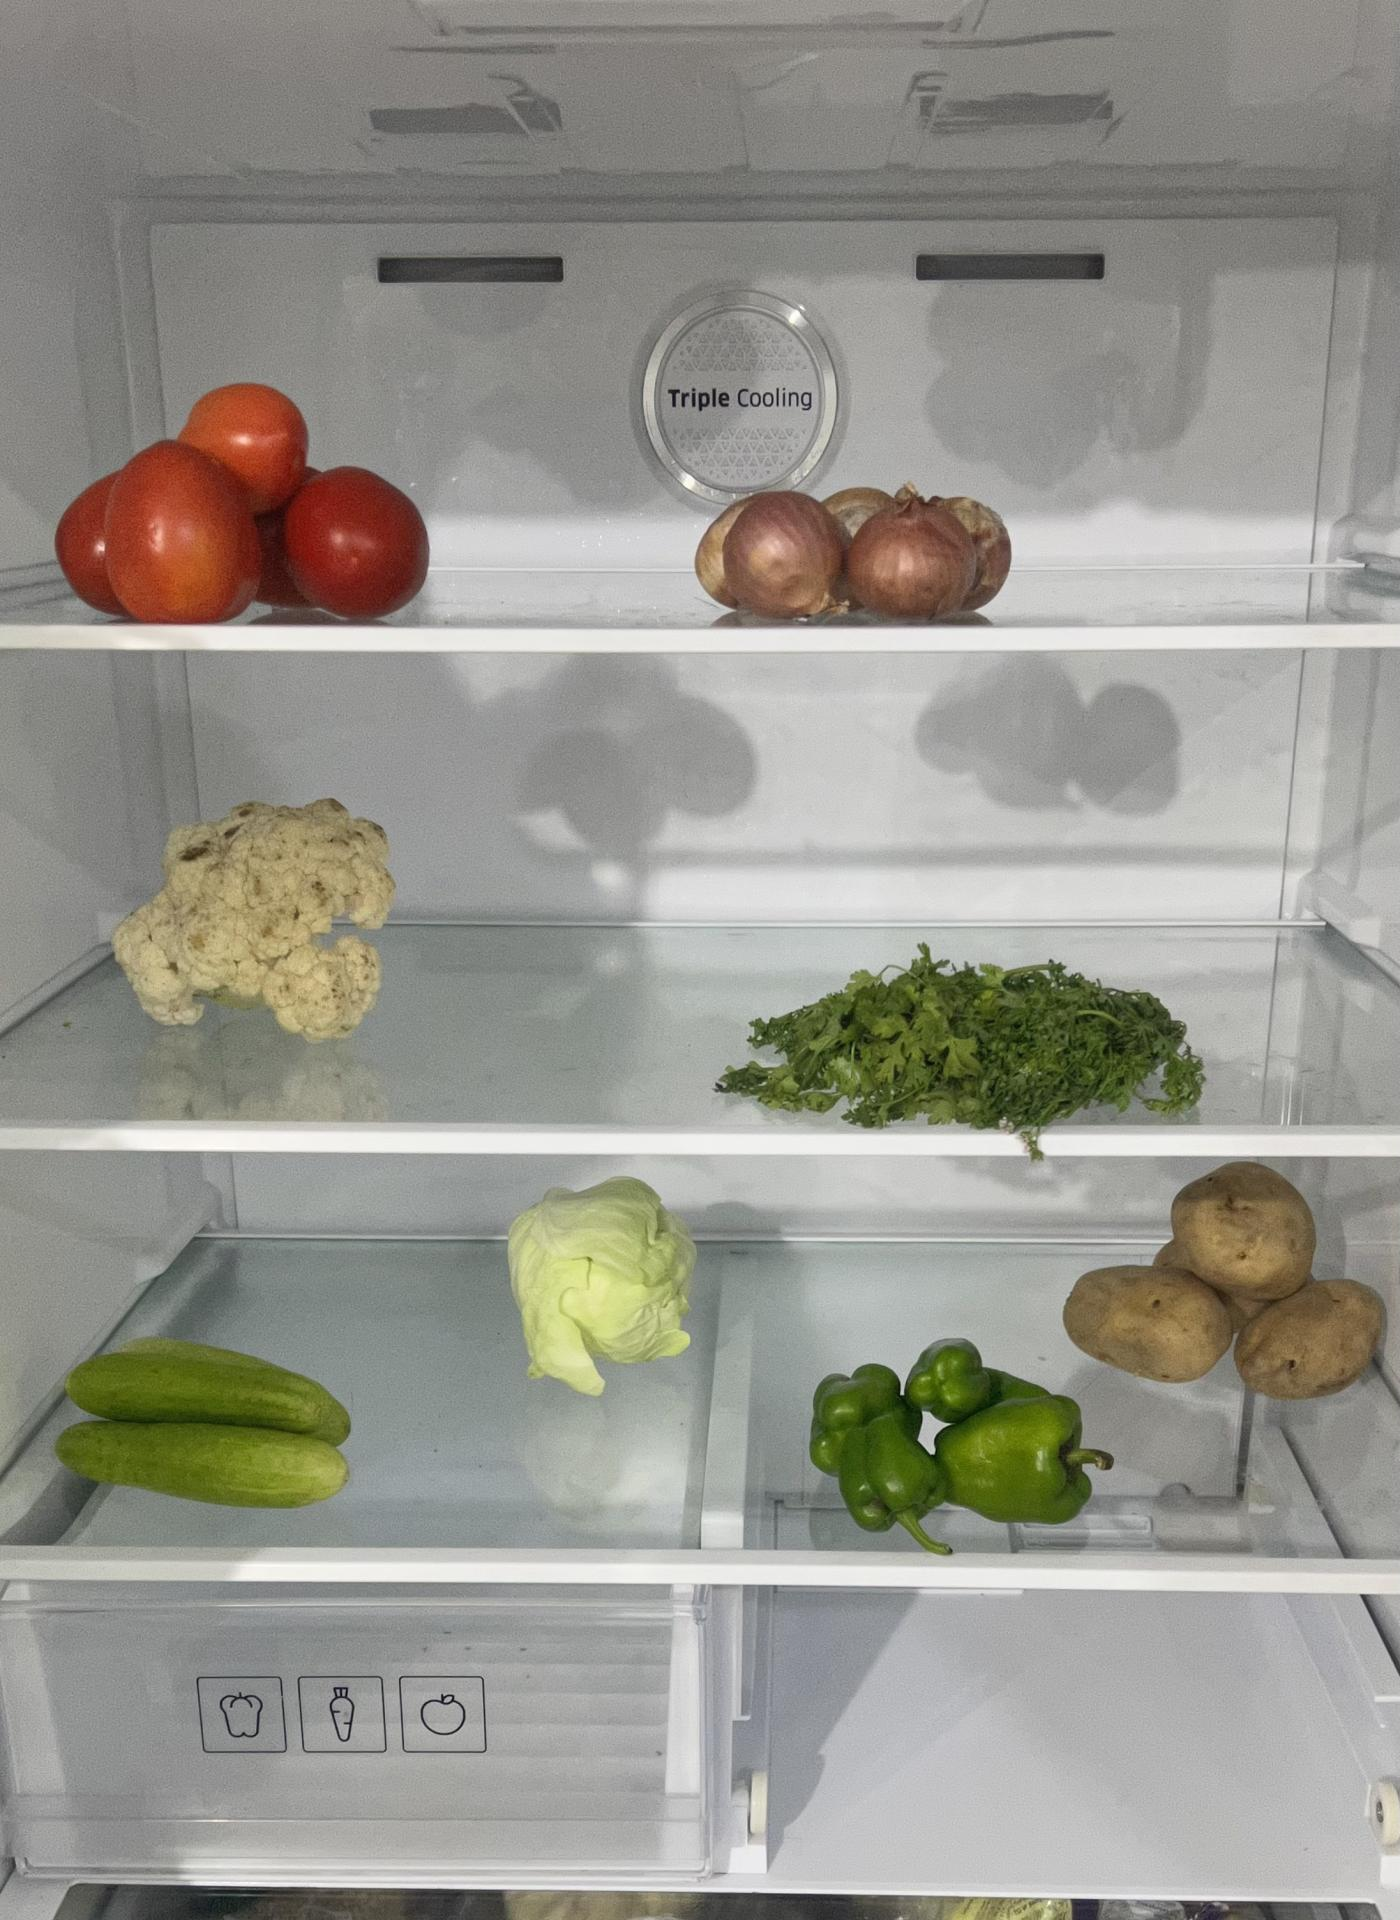bread: (36, 1884, 516, 1920)
cabbage: (511, 1182, 701, 1391)
capsicum: (808, 1345, 1105, 1535)
cauliflower: (119, 795, 398, 1032)
coriander: (740, 956, 1205, 1130)
cucumber: (51, 1340, 365, 1498)
onion: (698, 486, 1017, 628)
potato: (1065, 1154, 1390, 1392)
tomato: (51, 382, 434, 622)
